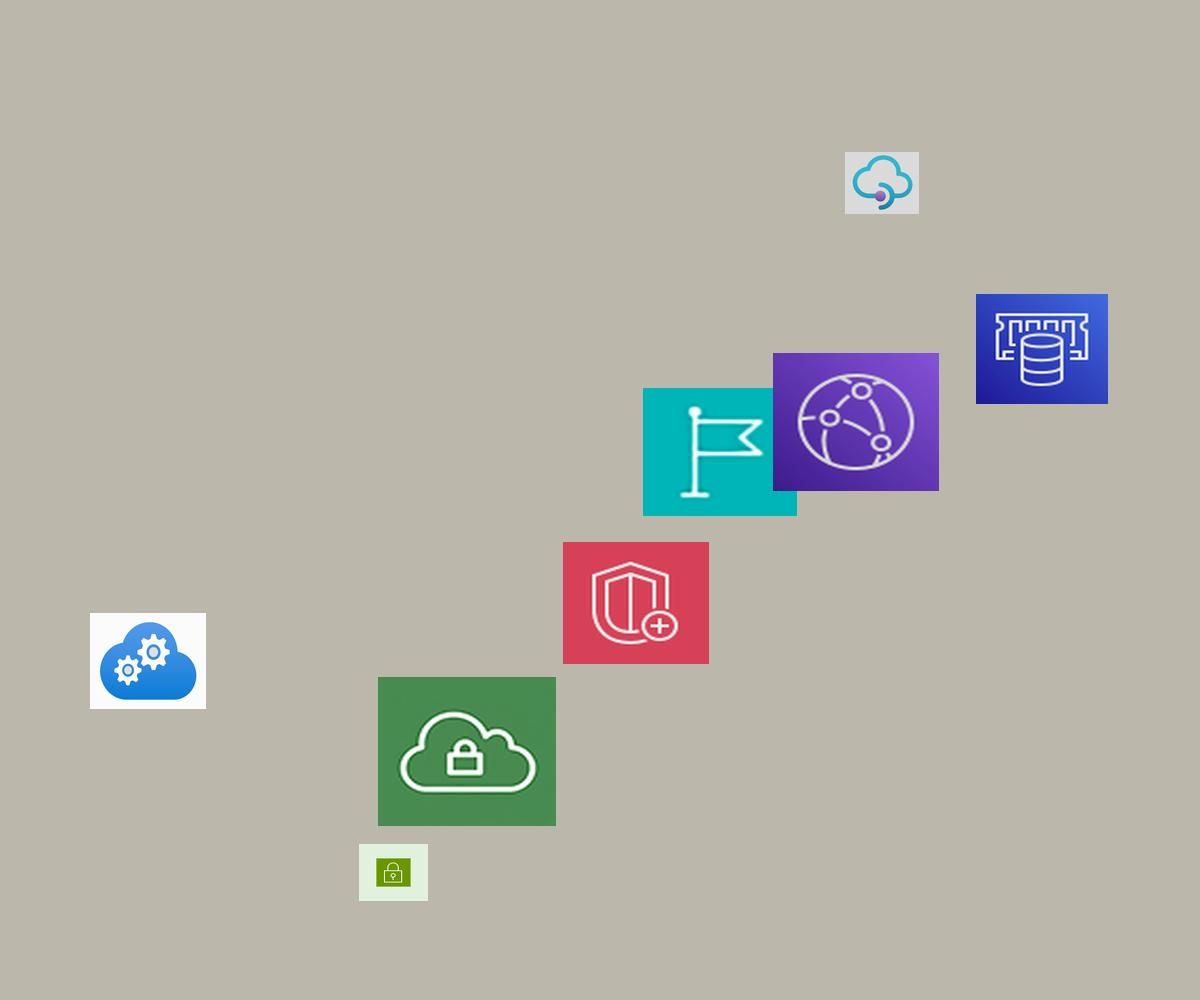AWS-CloudFront: (773, 353, 939, 491)
AWS-ElastiCache: (976, 294, 1108, 404)
AWS-Private_vpc: (378, 677, 556, 826)
AWS-Public-subnet: (359, 844, 428, 901)
AWS-Region: (643, 388, 797, 516)
AWS-Shield: (563, 542, 709, 664)
Azure_api_gateway: (845, 152, 919, 214)
Azure_cloud_services: (90, 613, 206, 709)
